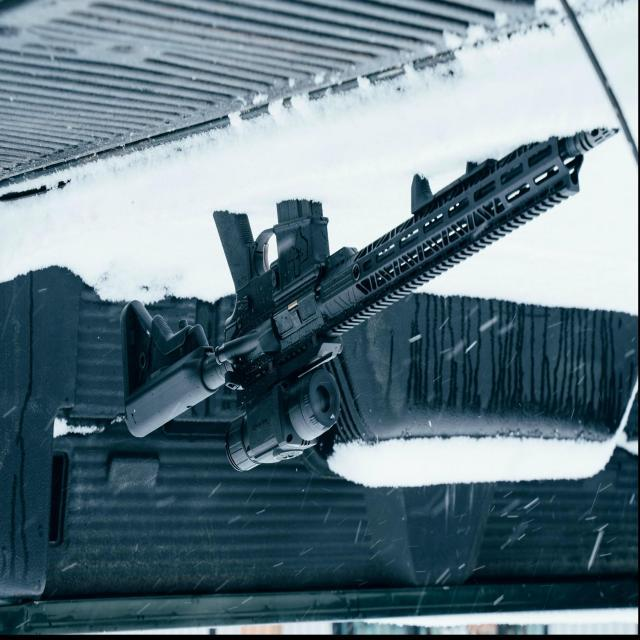weapon: (121, 127, 618, 474)
